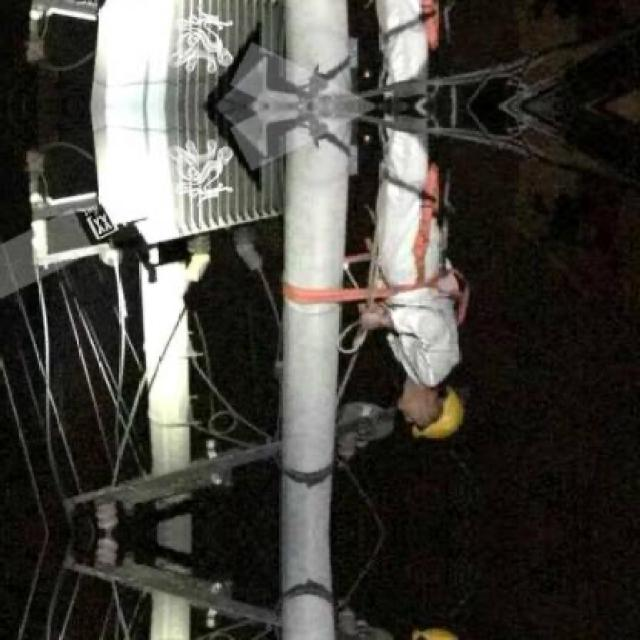con casco: (373, 378, 451, 452)
